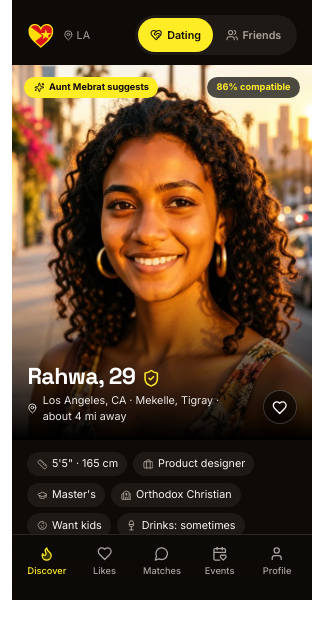
Scenario: BelesAppDemo › switches the react affordance to kemay in Friends mode
The image size is (332, 617).
Click the button "Friends".
click(253, 35)  # box [213,18,294,52]
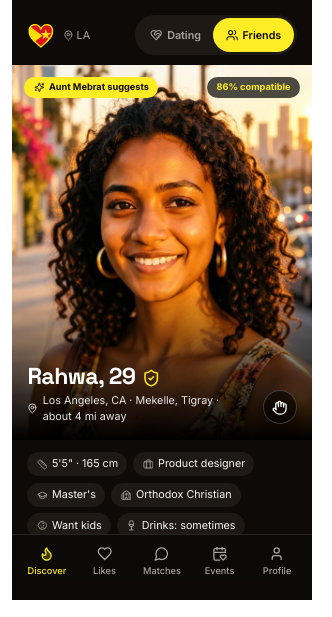
Expected: the button named "Say kemay to Rahwa's main photo" is shown, [263,390,297,424]
